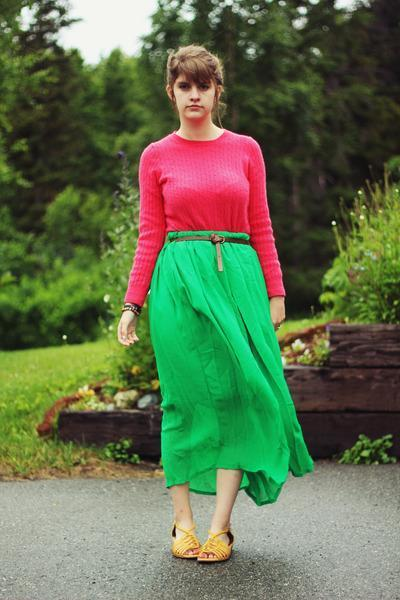jacket: (127, 133, 285, 299)
shoe: (172, 525, 233, 567)
skirt: (147, 232, 314, 505)
